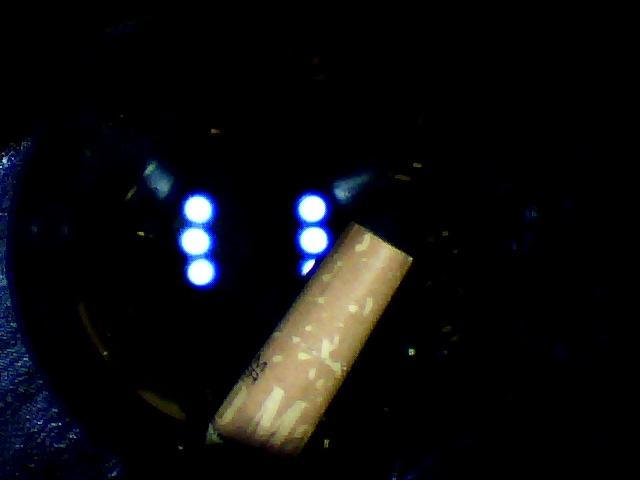megot: (178, 206, 433, 462)
